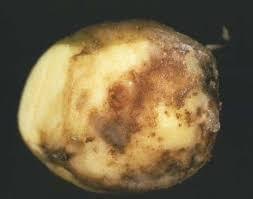tomato late blight: (17, 18, 223, 195)
